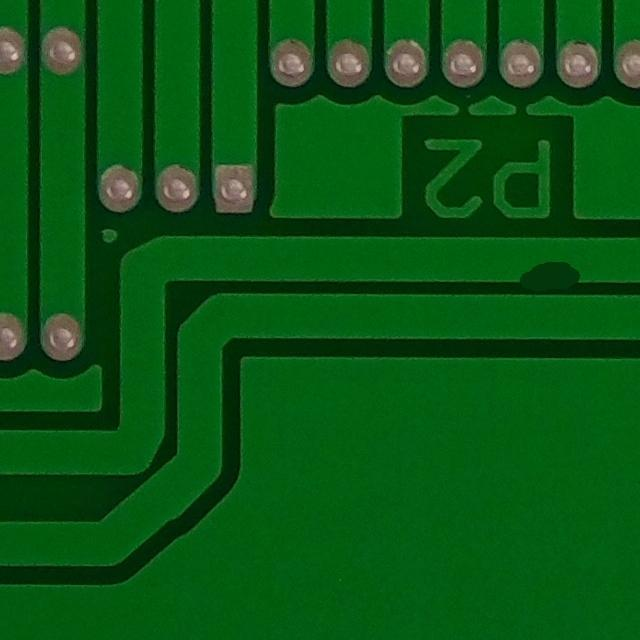mouse_bite: (508, 241, 593, 308)
